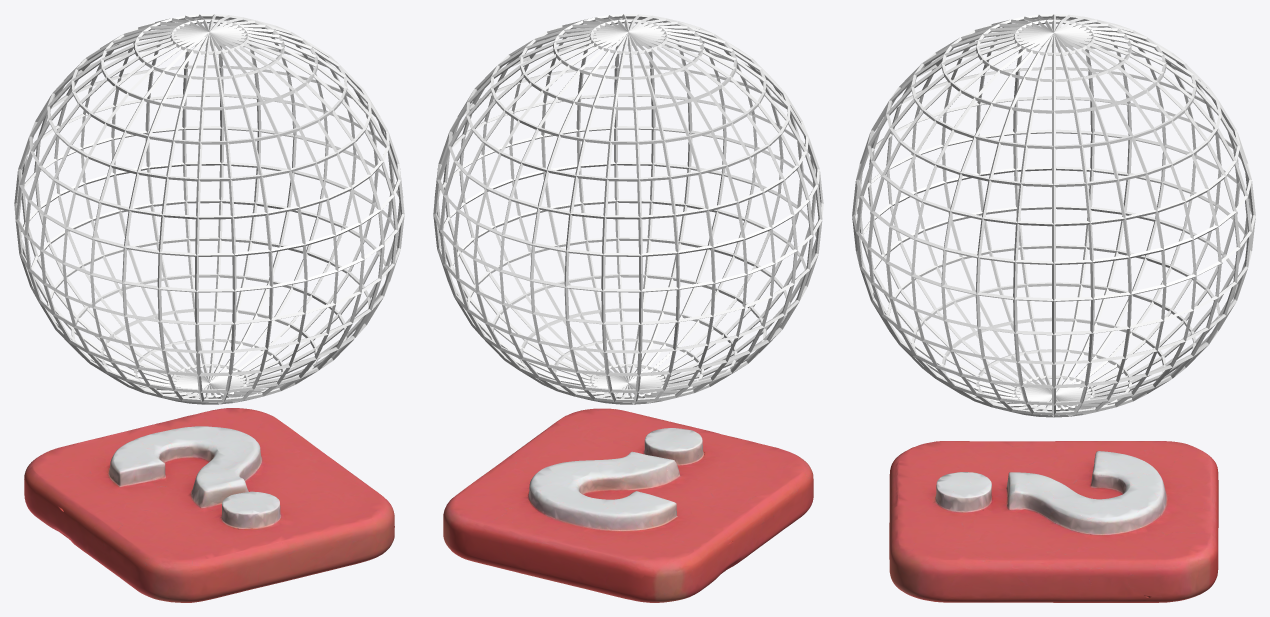
The picture shows the model from 3 angles, left to right: view 1: azimuth 30°, elevation 25°; view 2: azimuth 150°, elevation 25°; view 3: azimuth 270°, elevation 25°; orthographic projection. The views are drawn at different scales.
Visible parts, largest first — view 1: mesh_0 (×2); view 2: mesh_0 (×2); view 3: mesh_0 (×2).
Part boxes in pixels (left/top/right/bottom): mesh_0 (×2): left=14, top=14, right=404, bottom=602; mesh_0 (×2): left=433, top=14, right=823, bottom=602; mesh_0 (×2): left=852, top=14, right=1255, bottom=602.
Bounding box in the file's own units: 2.45 × 3.42 × 2.45.
2 materials, 1 textured.
